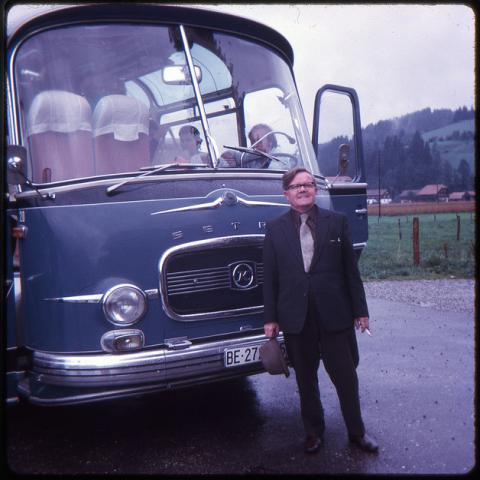bus: (7, 7, 372, 408)
